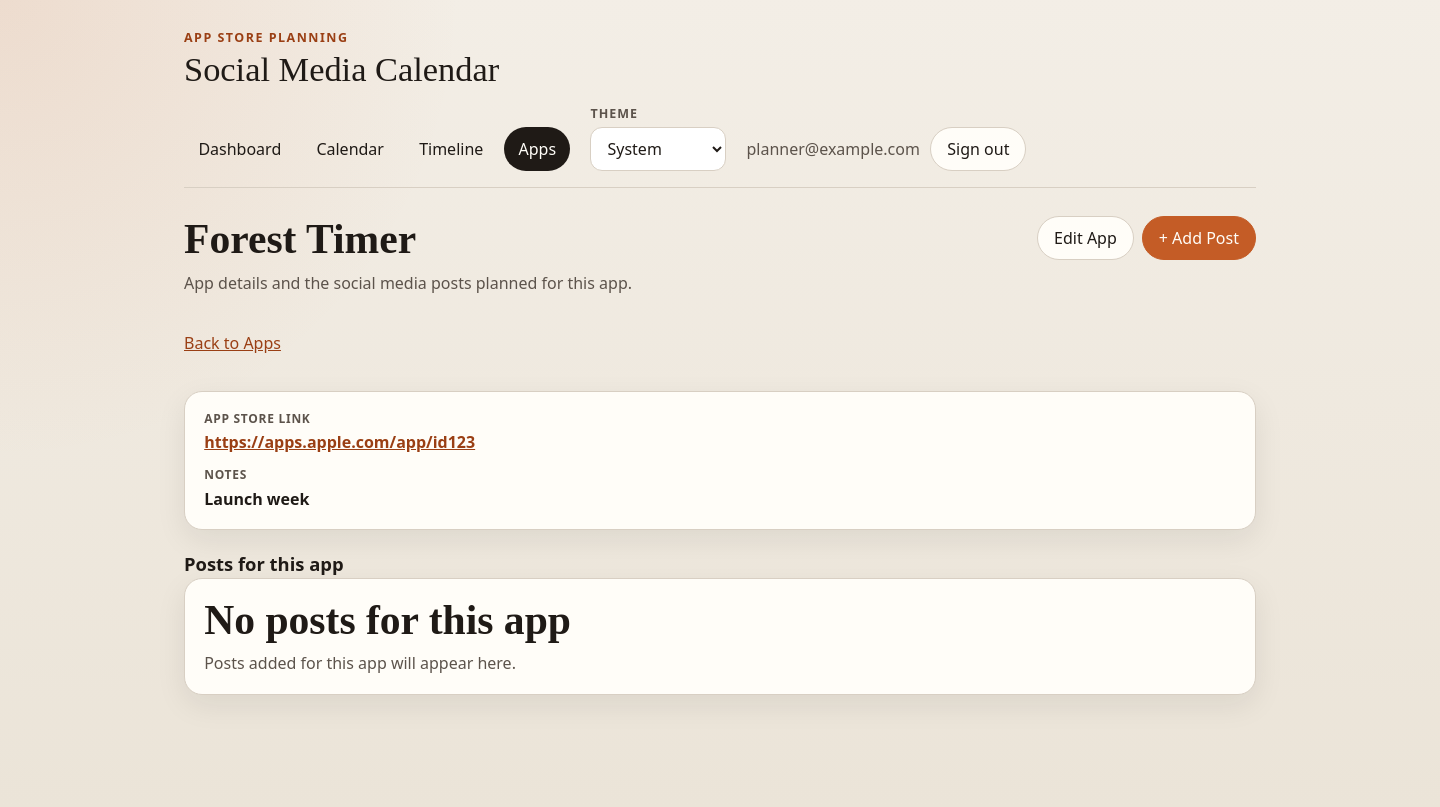
Test case: B-015 app details and app-specific posts › adds a post for the selected app and returns to app details
The image size is (1440, 807).
Click the link "+ Add Post". click: (1199, 238)
box: [1142,216,1256,260]
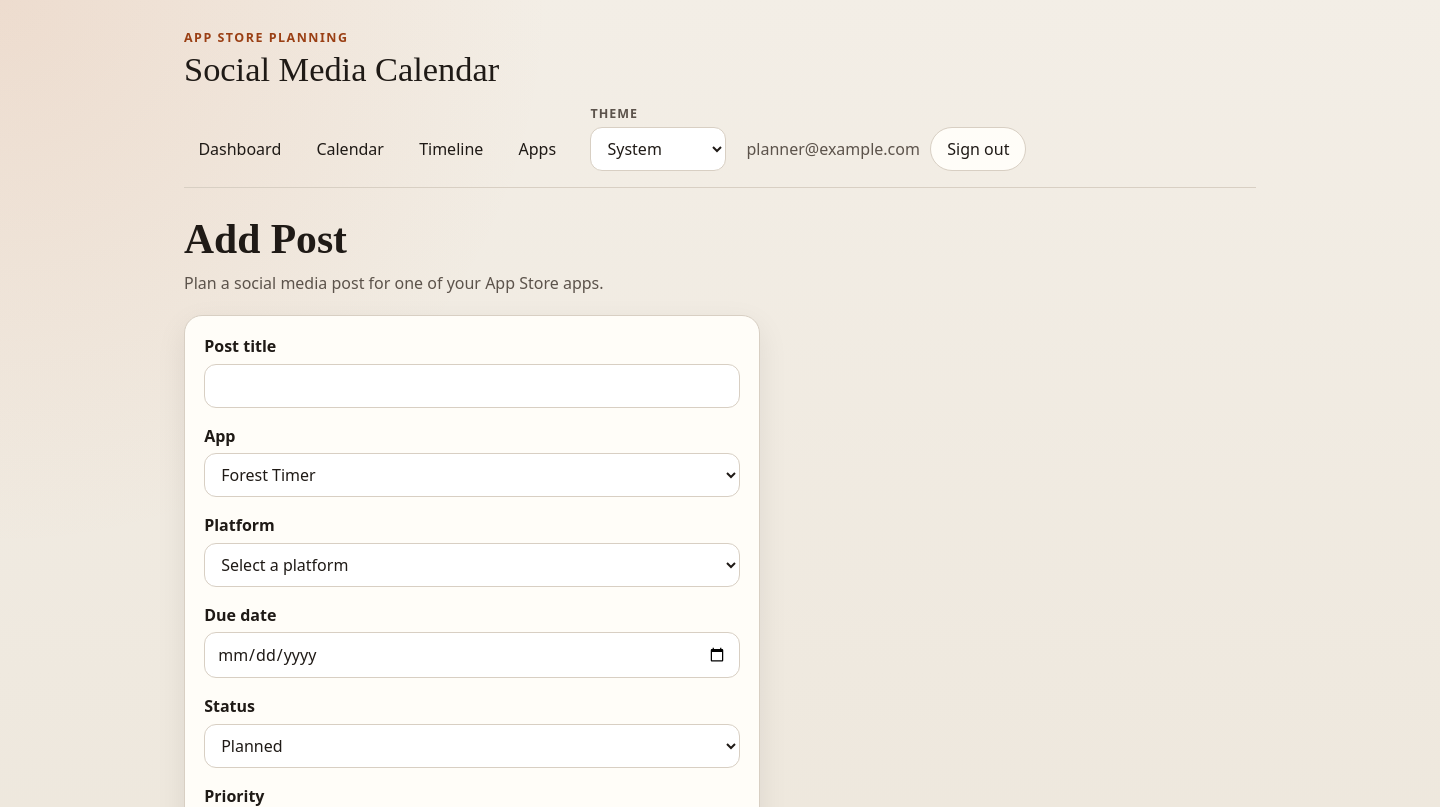
Check: the dropdown labelled "App" shows "Forest Timer", box [204,453,740,497]
Type "Launch post" into the field labelled "Post title". click: (472, 386)
box: [204,364,740,408]
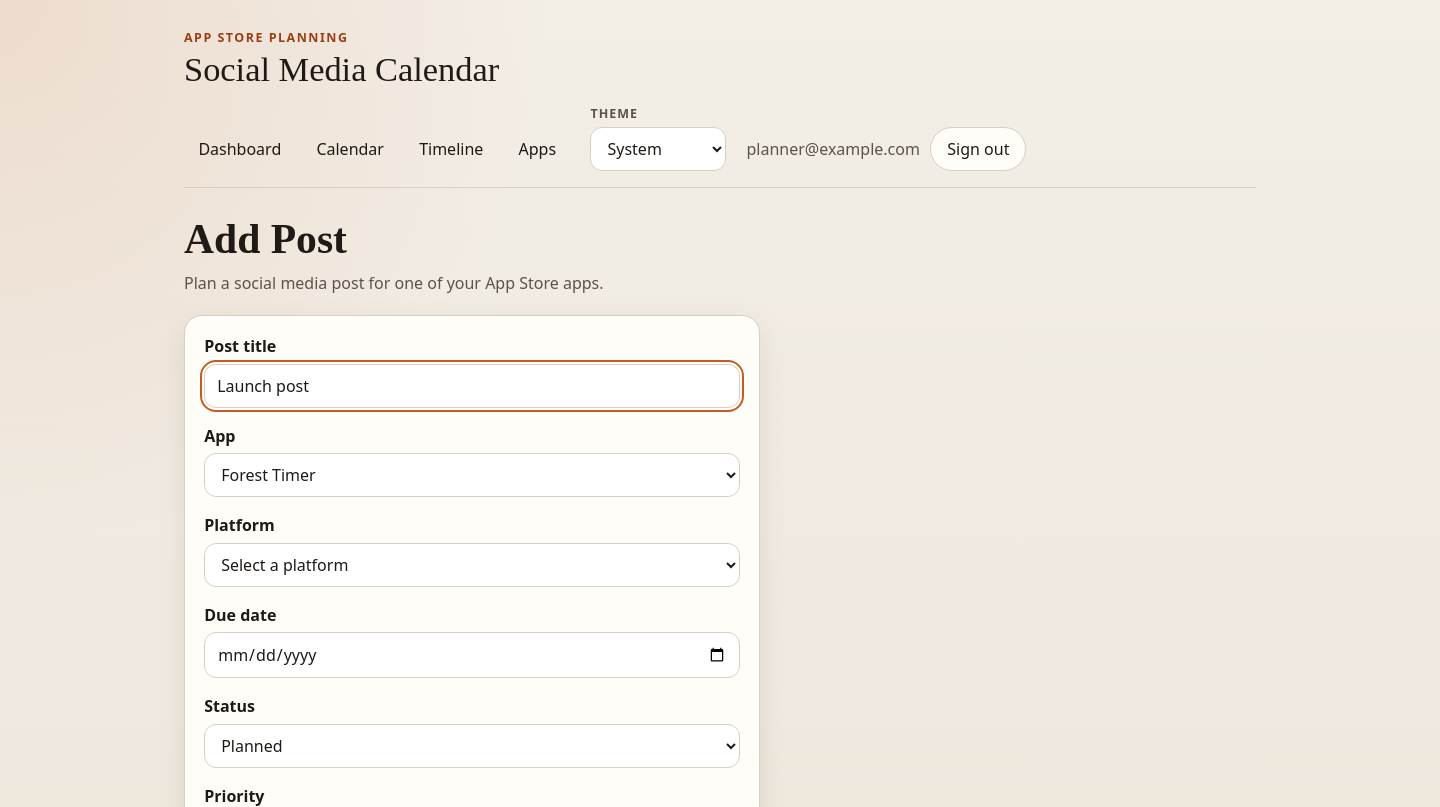
Select "Instagram" in the dropdown labelled "Platform". click: (472, 565)
box: [204,543,740,587]
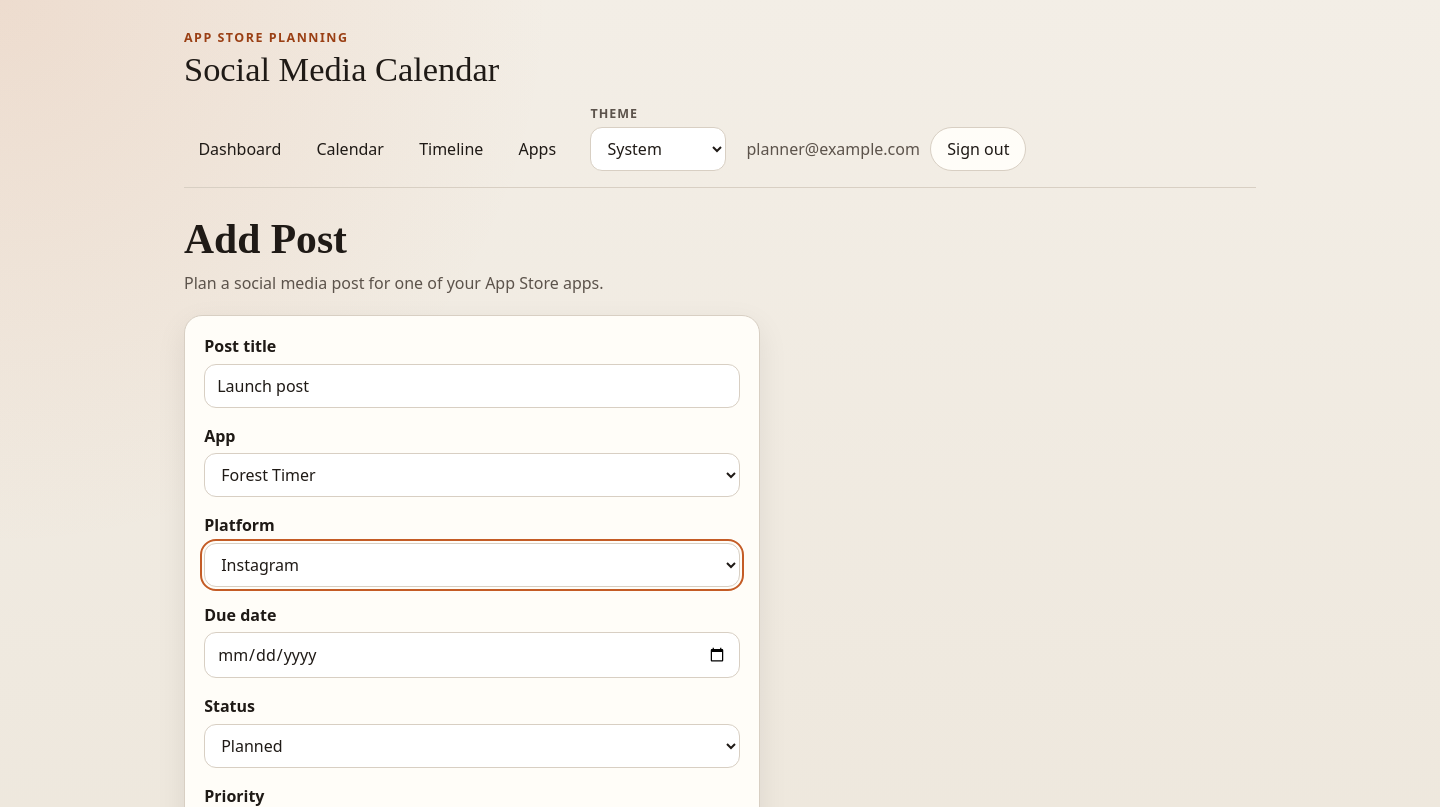
Type "2026-09-10" into the date field labelled "Due date". click: (472, 655)
box: [204,632,740,678]
(page scrolled)
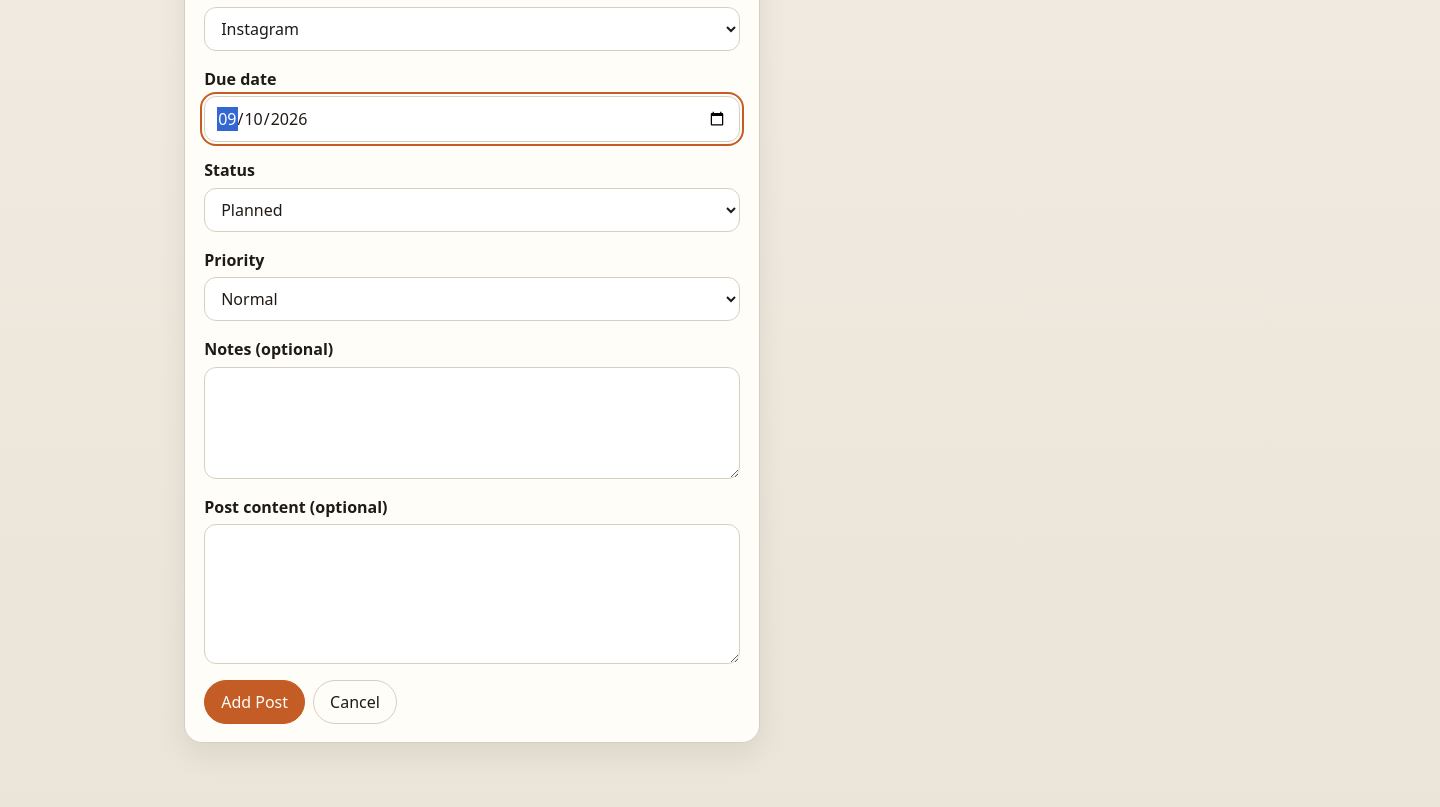
Click the button "Add Post". click: (255, 702)
box: [204,680,305,724]
(page scrolled)
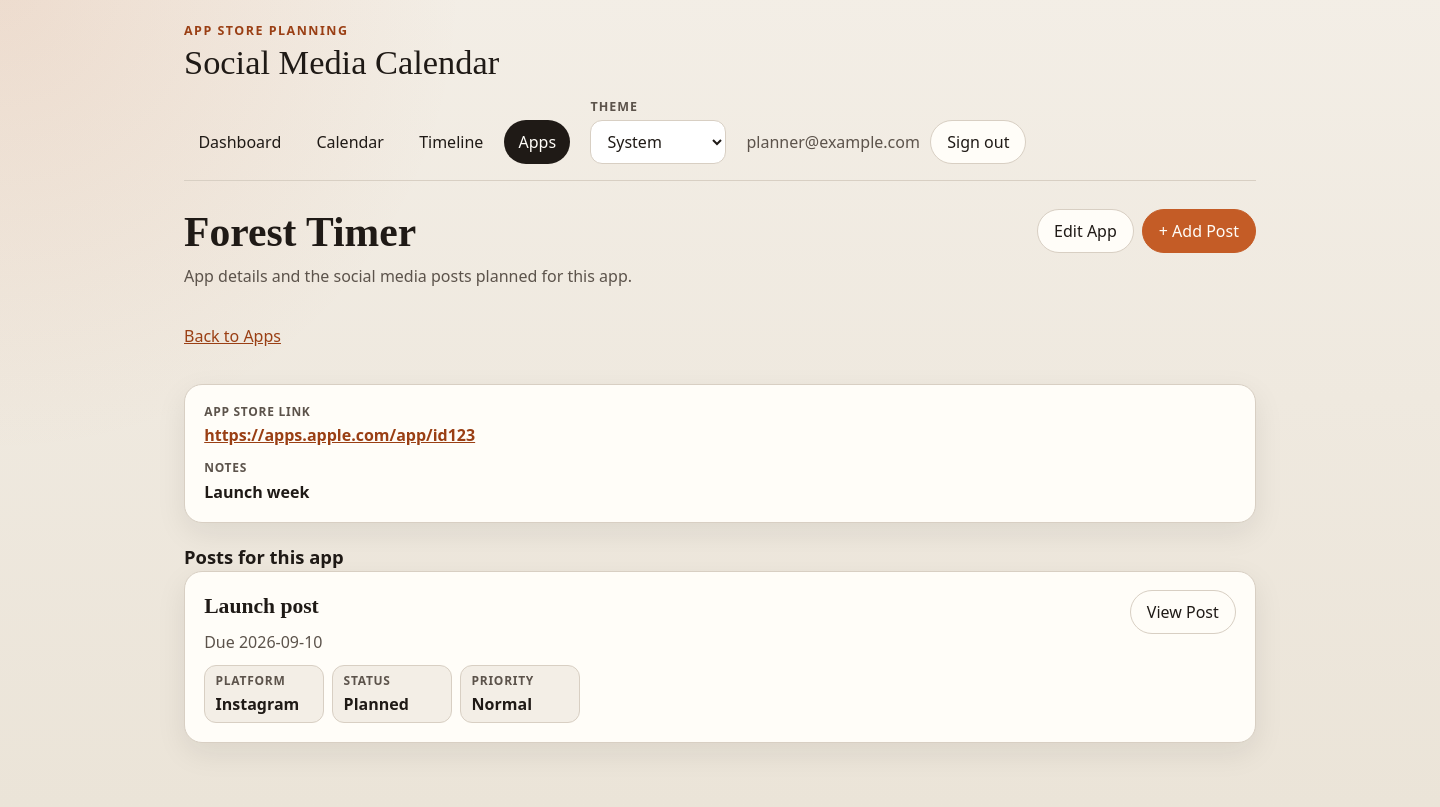
Check: the heading "Forest Timer" is shown, box [184,210,416,256]
Check: the heading "Launch post" is shown, box [204,594,319,618]
